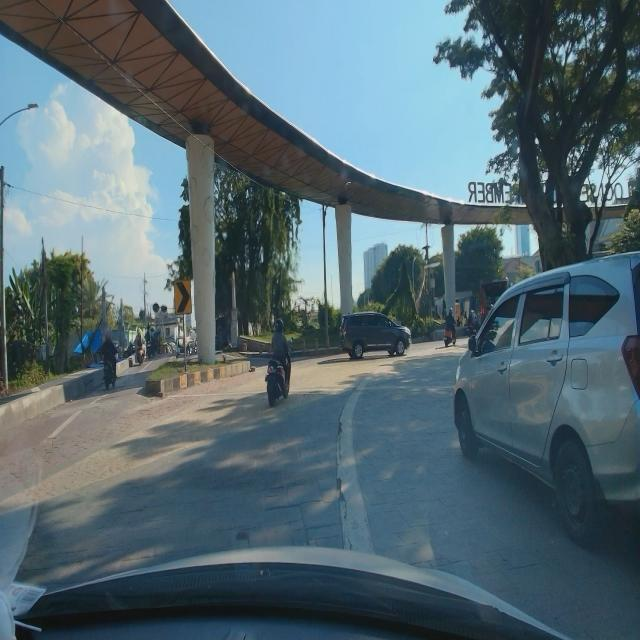car: (452, 247, 640, 545)
